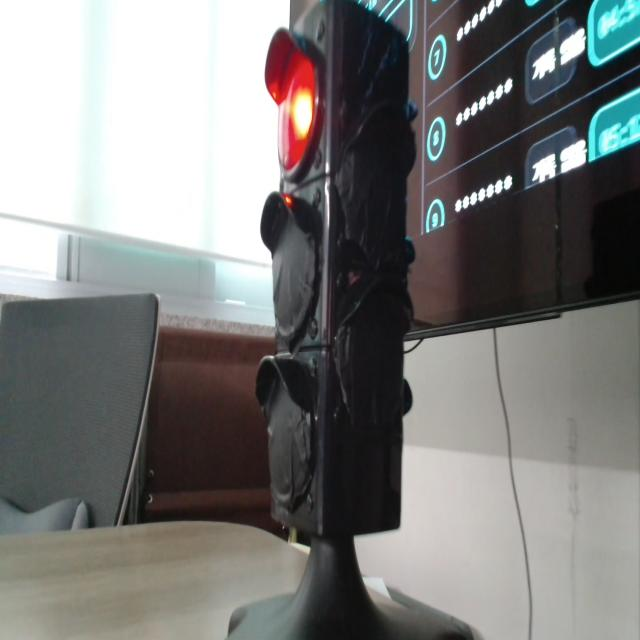red_light: (265, 30, 318, 175), (278, 50, 315, 170), (284, 195, 292, 206)
